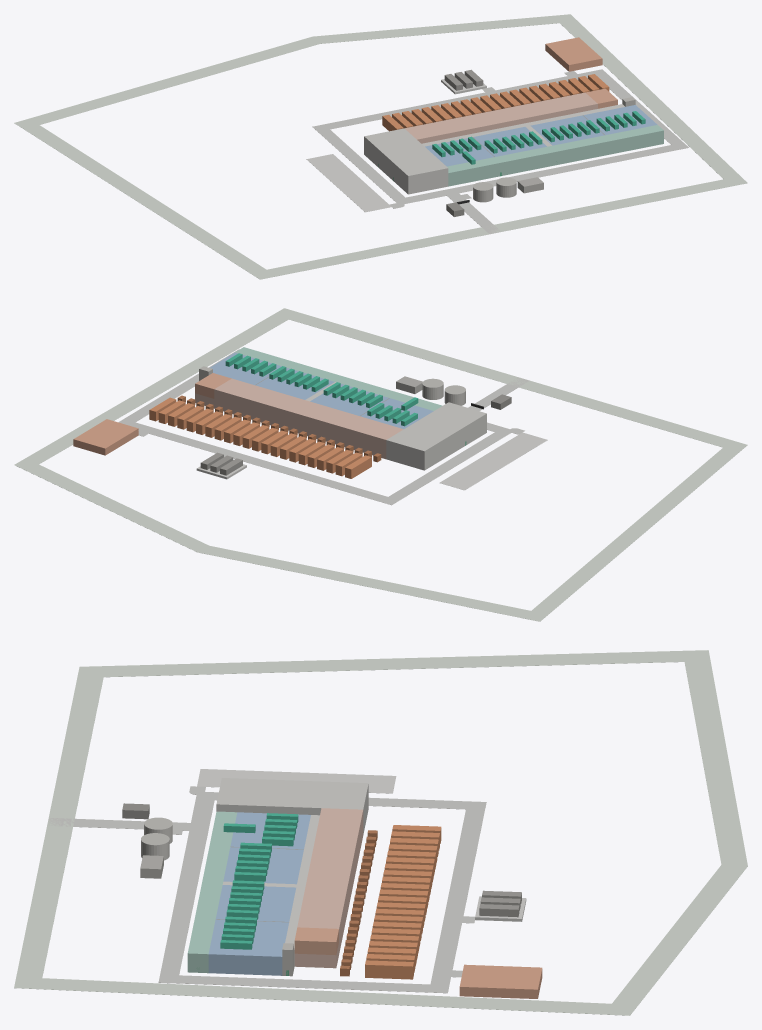
Rendered from testfit_option_A.glb.
3 views of the same model, one above another, from view 1: azimuth 30°, elevation 25°; view 2: azimuth 150°, elevation 25°; view 3: azimuth 270°, elevation 25° (orthographic). The views are drawn at different scales.
Visible parts, largest first — view 1: LAND, RD-RING, MECH, SUP, PARK, SUB, DH04, DH02, DH03, COR, DH01, RD-SPUR1; view 2: LAND, RD-RING, SUP, PARK, MECH, SUB, DH04, DH03, DH02, DH01, EB11, EB16 (+3 smaller); view 3: LAND, RD-RING, SUP, MECH, DH04, SUB, PARK, DH02, DH03, DH01, COR, MV01 (+10 smaller).
Part boxes in pixels (x1,y1,x2,y2): LAND: (14, 14, 747, 279); RD-RING: (312, 69, 688, 204); MECH: (447, 125, 663, 186); SUP: (364, 128, 448, 194); PARK: (306, 154, 391, 212); SUB: (545, 37, 602, 71); DH04: (583, 105, 657, 134); DH02: (473, 127, 546, 156); DH03: (530, 115, 604, 145); COR: (422, 104, 624, 146); DH01: (425, 138, 493, 166); RD-SPUR1: (446, 192, 499, 234); LAND: (14, 308, 747, 621); RD-RING: (118, 349, 514, 505); SUP: (386, 402, 486, 470); PARK: (439, 432, 547, 490); MECH: (235, 347, 442, 410); SUB: (73, 419, 138, 455); DH04: (210, 352, 281, 385); DH03: (255, 367, 334, 399); DH02: (310, 384, 388, 415); DH01: (360, 398, 433, 428); EB11: (367, 423, 403, 449); EB16: (271, 395, 307, 421); LAND: (14, 650, 747, 1015); RD-RING: (158, 792, 486, 993); SUP: (216, 778, 368, 834); MECH: (187, 811, 237, 973); DH04: (208, 919, 288, 975); SUB: (459, 964, 542, 998); PARK: (197, 769, 396, 793); DH02: (223, 847, 303, 884); DH03: (215, 885, 295, 921); DH01: (230, 812, 310, 849); COR: (285, 815, 319, 968); MV01: (294, 927, 338, 955).
Size of the model in its own units: 330 by 11 by 280.
